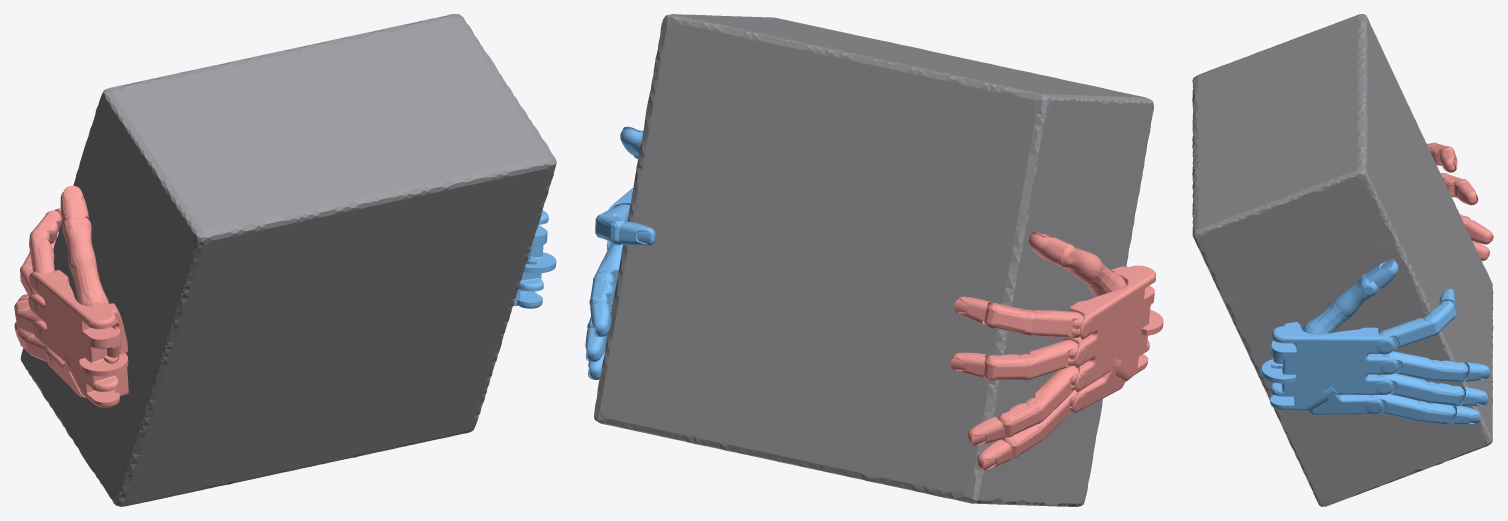
3 renders of one model, left to right at view 1: azimuth 30°, elevation 25°; view 2: azimuth 150°, elevation 25°; view 3: azimuth 270°, elevation 25°, orthographic. The views are drawn at different scales.
Visible parts, largest first — view 1: object_mesh, left_shadow_hand, right_shadow_hand; view 2: object_mesh, left_shadow_hand, right_shadow_hand; view 3: object_mesh, right_shadow_hand, left_shadow_hand.
Boxes of the visible parts, left/top/right/bottom form: object_mesh: left=20, top=14, right=556, bottom=506; left_shadow_hand: left=14, top=186, right=128, bottom=407; right_shadow_hand: left=513, top=210, right=556, bottom=308; object_mesh: left=594, top=14, right=1153, bottom=506; left_shadow_hand: left=950, top=231, right=1163, bottom=470; right_shadow_hand: left=585, top=126, right=655, bottom=379; object_mesh: left=1192, top=14, right=1493, bottom=506; right_shadow_hand: left=1261, top=258, right=1490, bottom=424; left_shadow_hand: left=1426, top=142, right=1493, bottom=260.
Bounding box in the file's own units: 0.4295 × 0.3597 × 0.2796.
